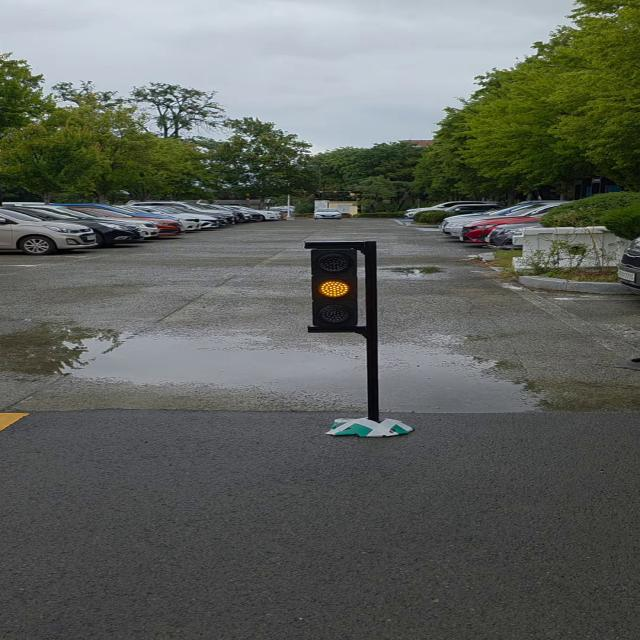yellow: (316, 246, 362, 328)
